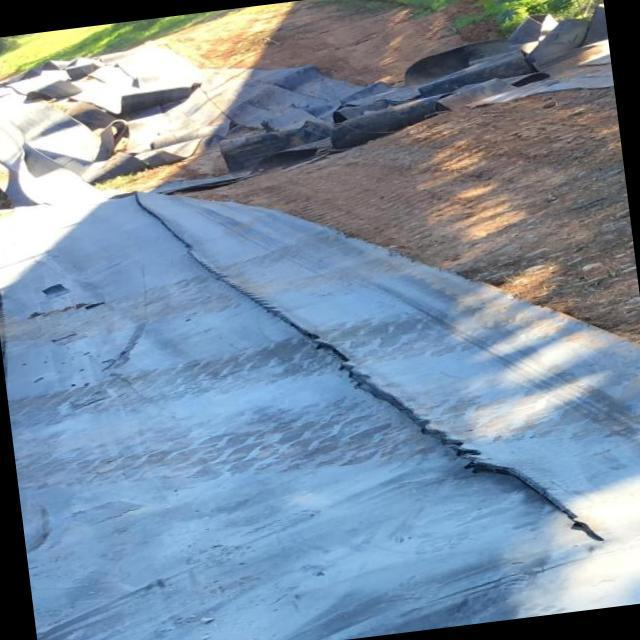Tear: (132, 189, 610, 546)
